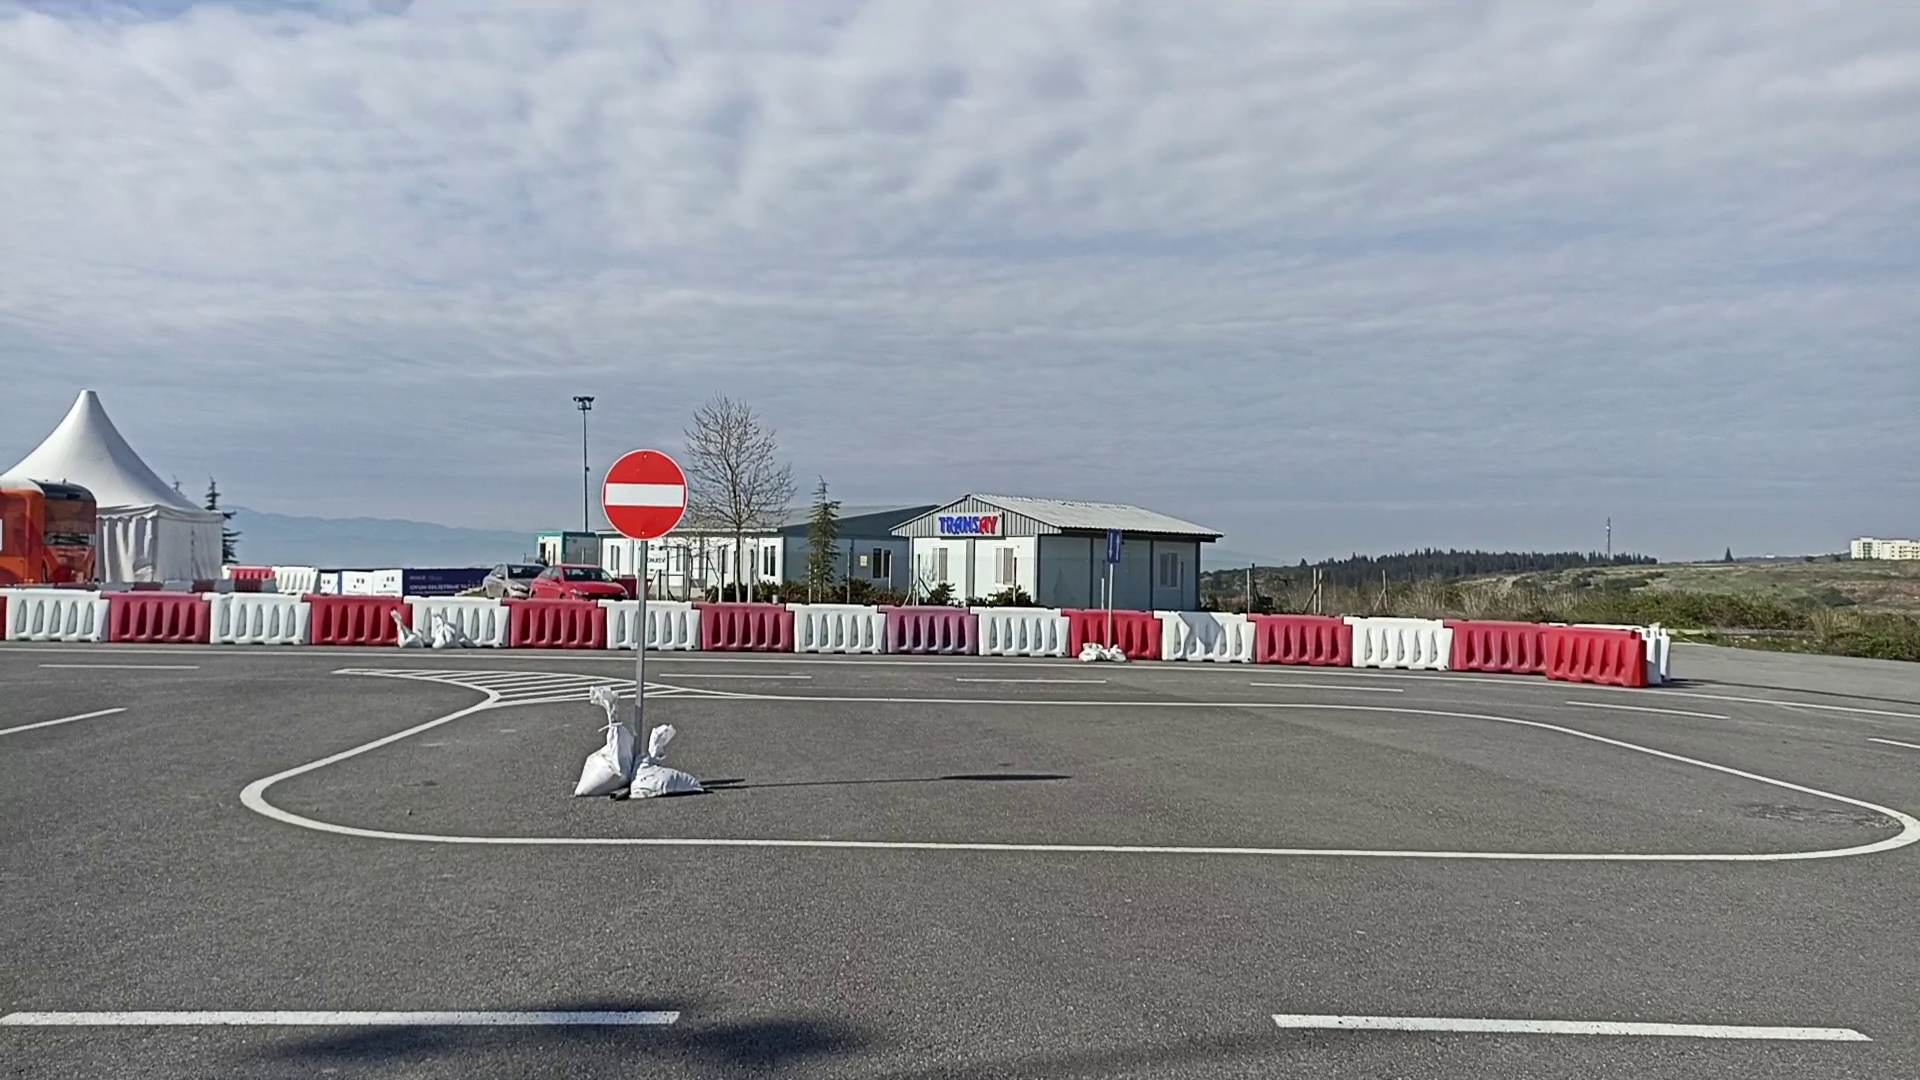noentryway: (601, 447, 690, 545)
